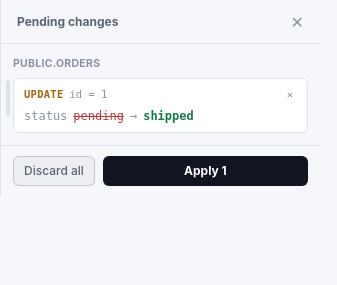
PendingPanel › keeps the set and reports what it expected versus what it found on a conflict
What coordinates should you click on to do the following:
click the button "Apply 1"
I would click on:
 (205, 170)
Its box is [103,156,308,186].
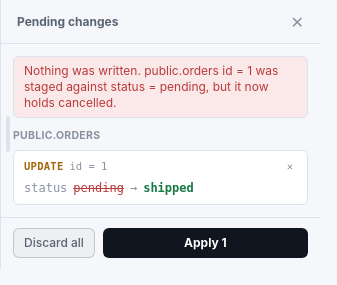
Check: the message is shown, box [13,56,308,118]
Check: the message shows "cancelled", box [24,63,278,110]
